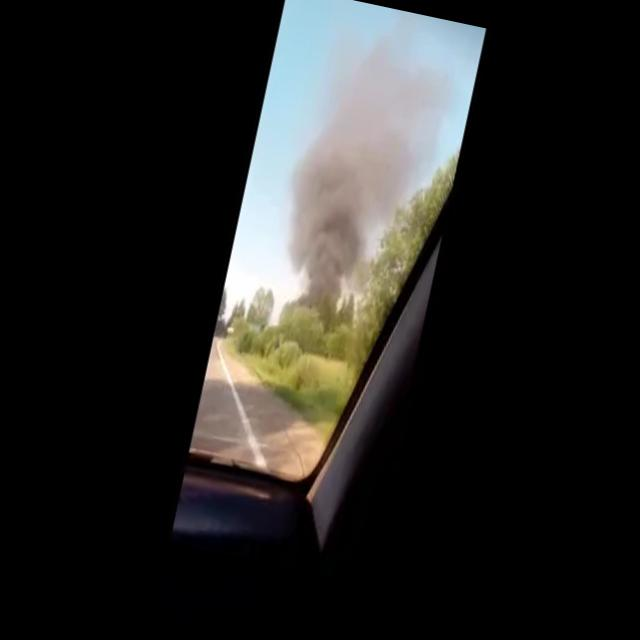Smoke: (264, 28, 454, 330)
